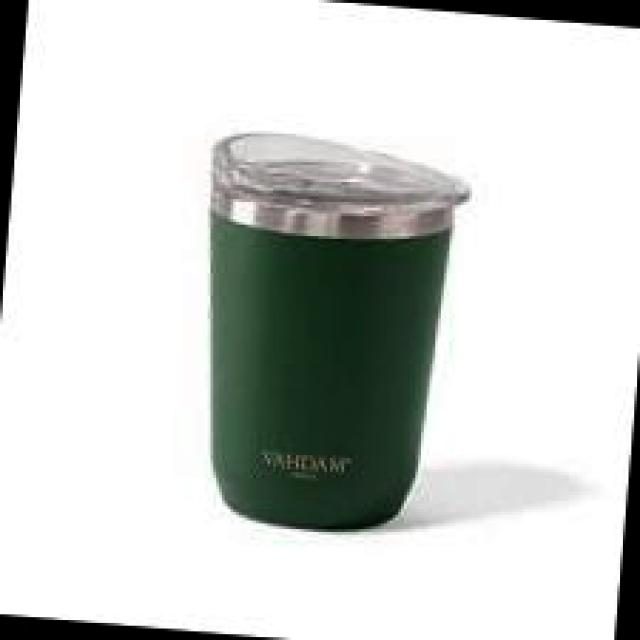bottle: (162, 112, 481, 565)
